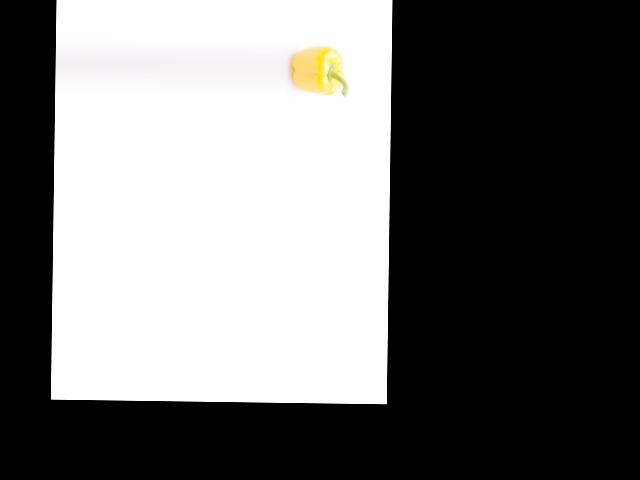bell_pepper: (290, 41, 347, 98)
